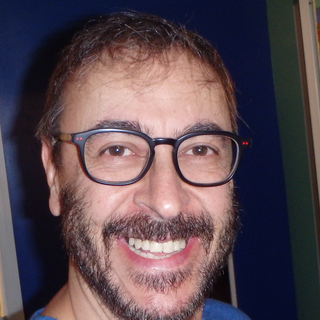eye: (94, 140, 145, 167), (178, 143, 226, 162)
